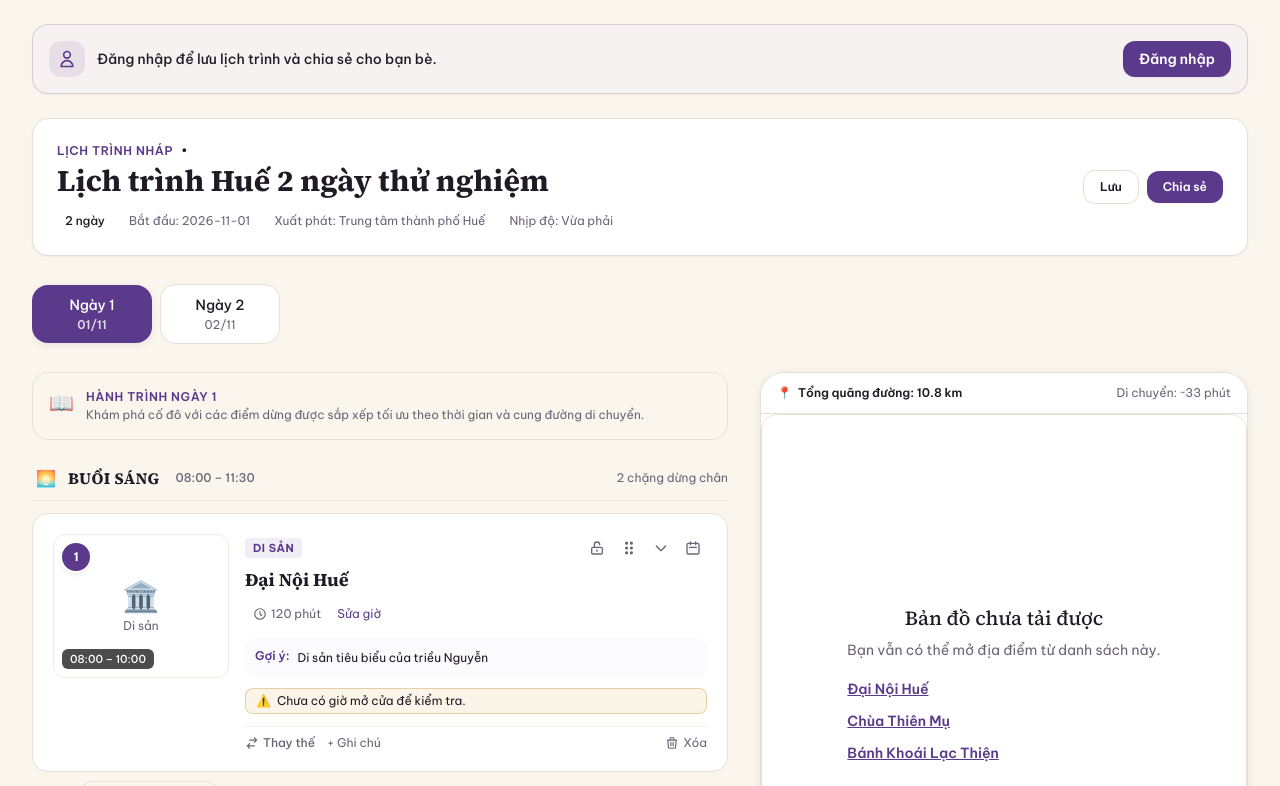
Test: TripEditorPage › deletes an item and allows undo via toast
Expected: the element that starts with "Di sản" is shown, x1=32 y1=513 x2=728 y2=772
What coordinates should you click on to do the following:
click the button titled "Xóa"
I would click on:
 (686, 742)
Its box is x1=665 y1=734 x2=707 y2=750.
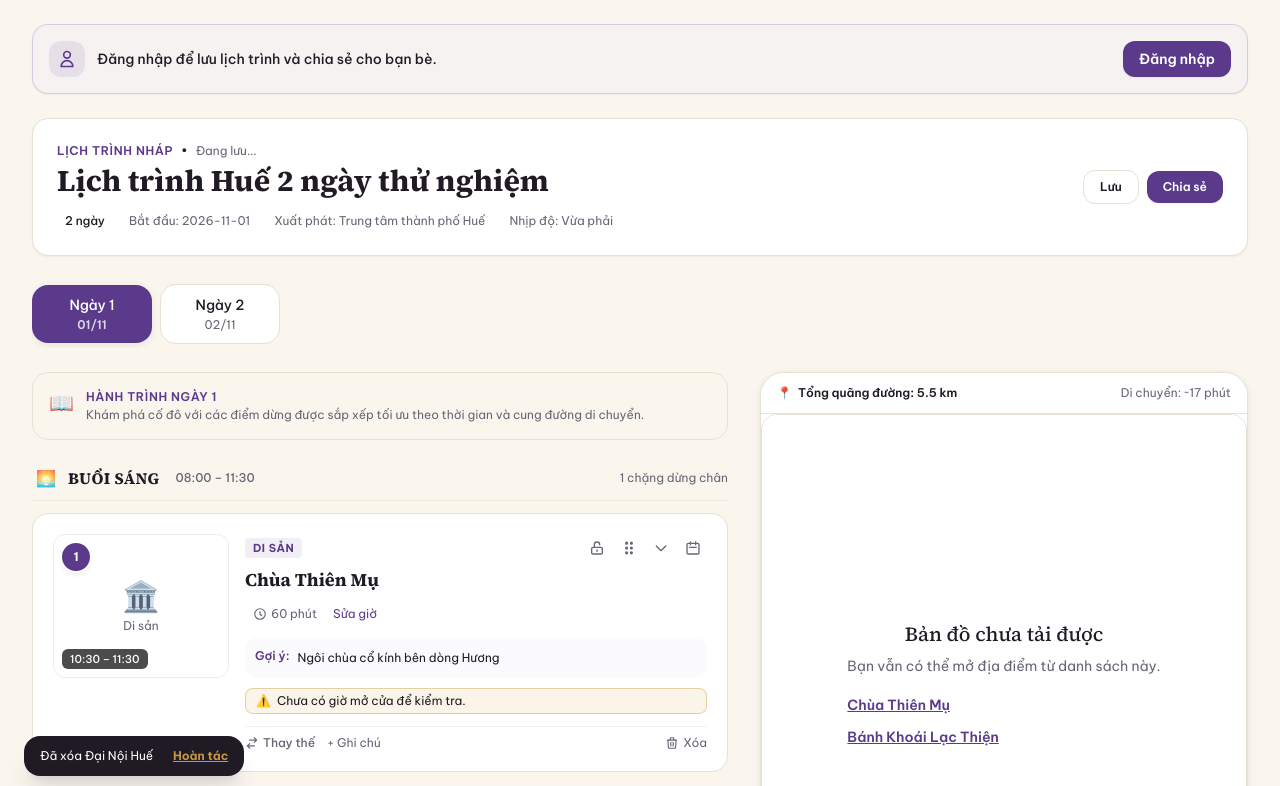
Expected: the text "Đã xóa Đại Nội Huế" is shown, x1=40 y1=748 x2=153 y2=764
Expected: the button "Hoàn tác" is shown
What coordinates should you click on to do the following:
click the button "Hoàn tác"
I would click on:
 (201, 756)
Its box is x1=173 y1=748 x2=228 y2=764.
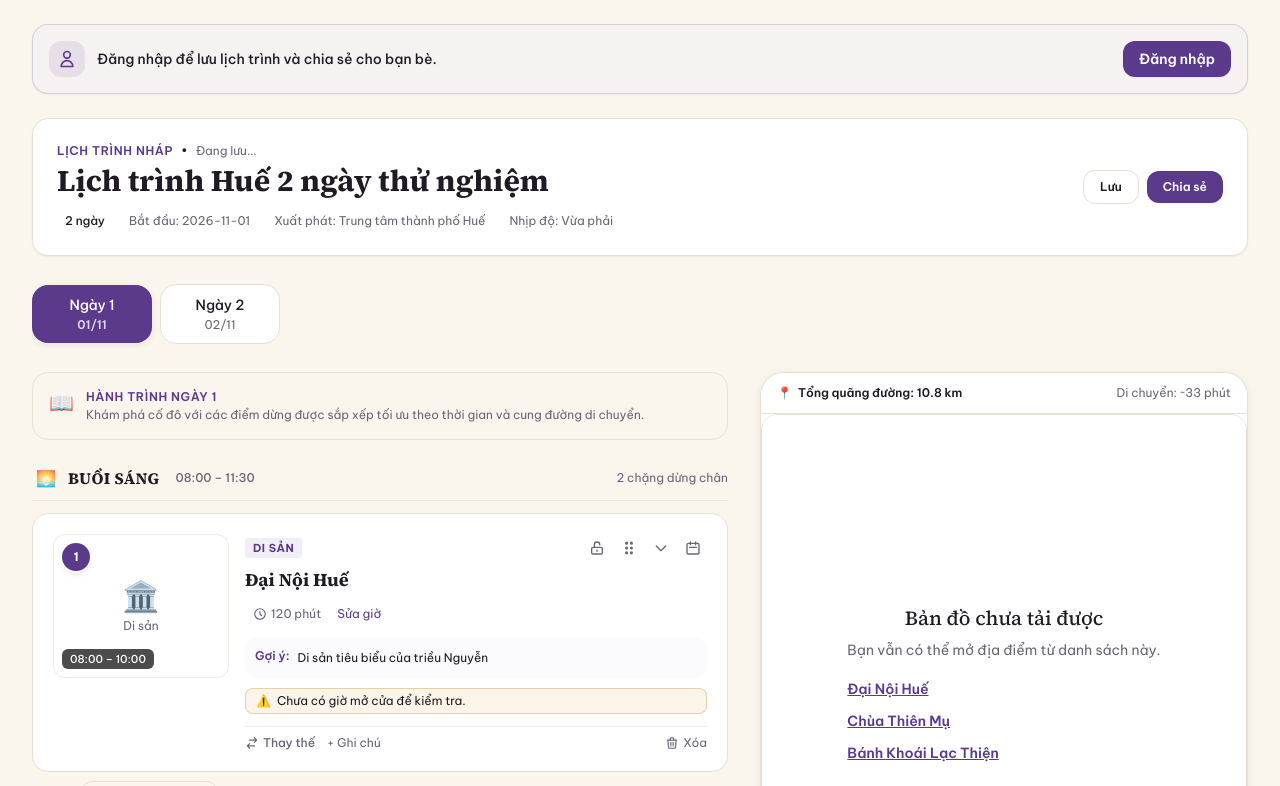
Expected: the element that starts with "Di sản" is shown, x1=32 y1=513 x2=728 y2=772
